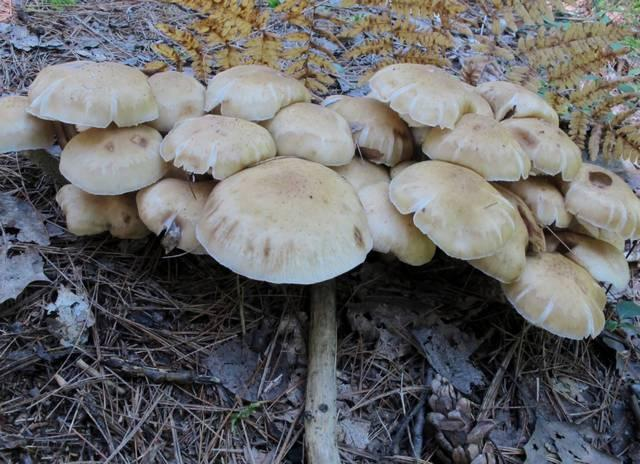Edible Mushroom: (374, 59, 628, 345), (194, 155, 374, 463), (2, 58, 374, 184), (47, 184, 225, 261)
